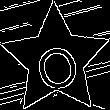O_N: (28, 29, 84, 91)
